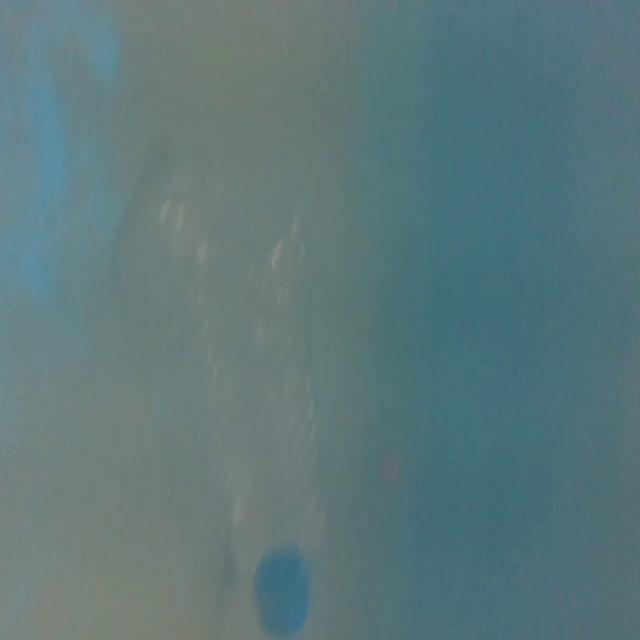plastic bottle: (167, 186, 335, 634)
